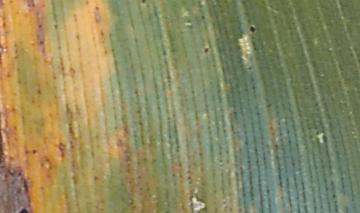tarspot: (247, 23, 256, 36), (16, 207, 28, 213), (37, 38, 46, 46), (202, 46, 209, 55), (30, 148, 39, 155), (199, 14, 207, 21), (246, 64, 253, 72), (138, 1, 147, 6), (94, 5, 100, 12), (36, 23, 42, 29)
